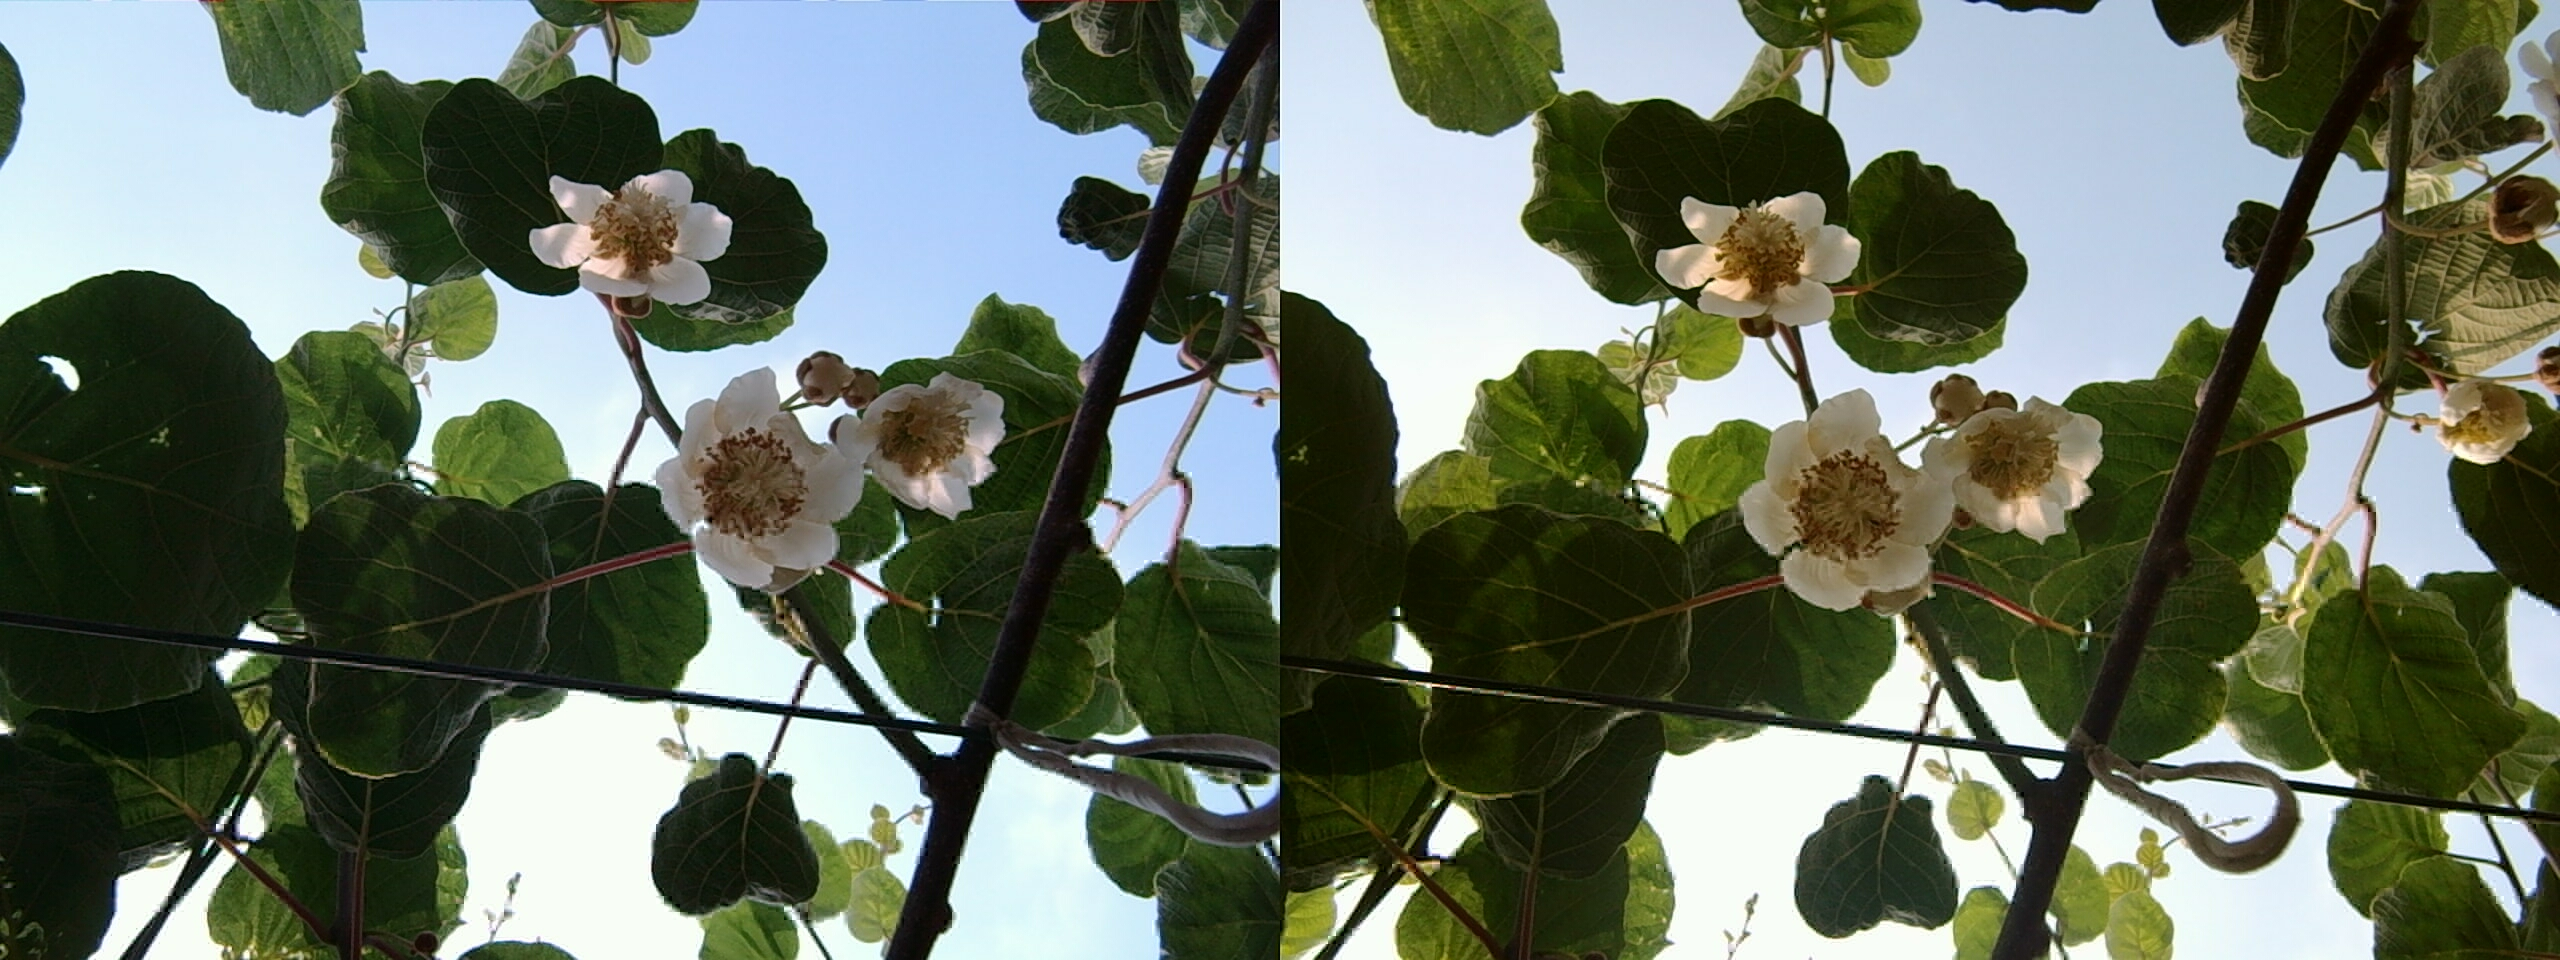flower: (1737, 384, 1958, 611), (655, 372, 860, 588), (1915, 376, 2101, 536), (823, 361, 1011, 511), (540, 163, 731, 307), (1664, 189, 1855, 327)
